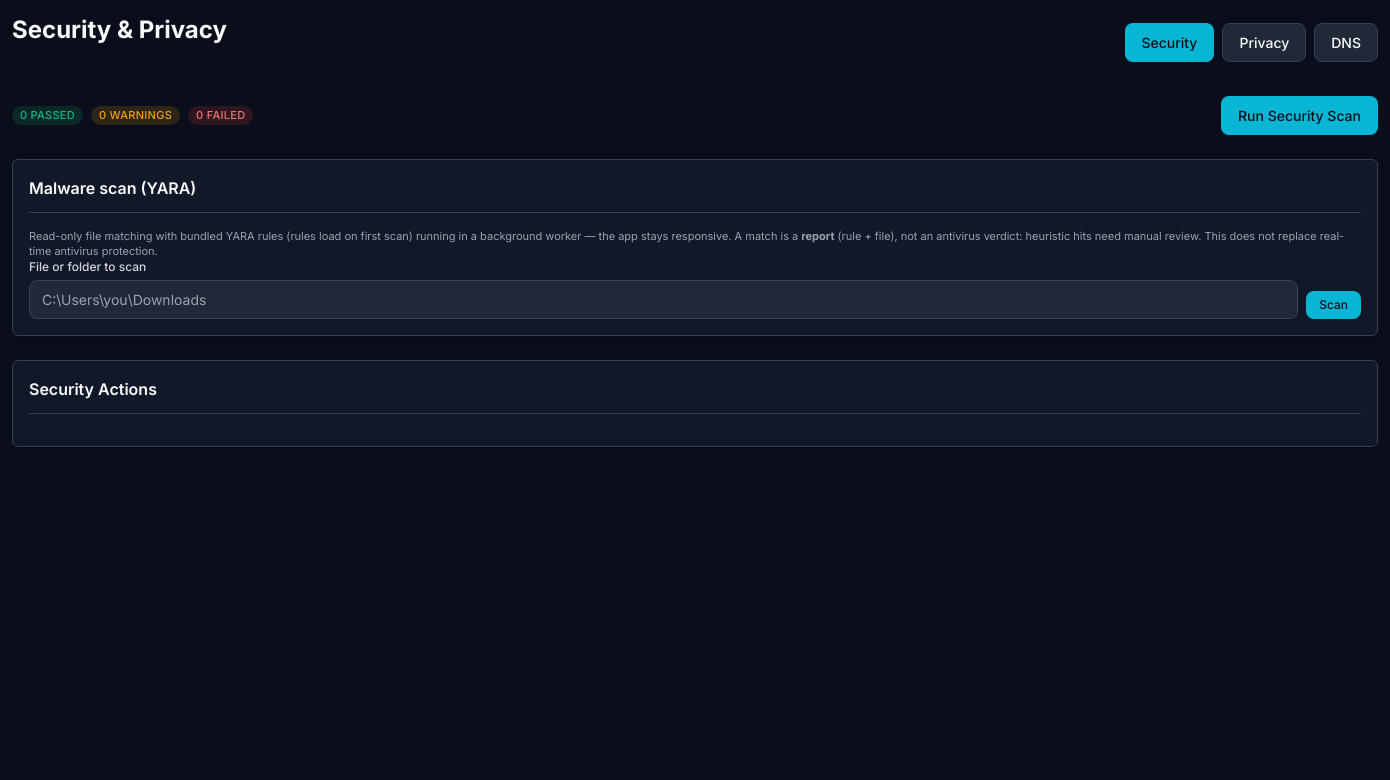
Test: Security UAC level fixes (A4) › renders one button per UAC level after a scan
Click the button with test id "security-scan-button" at (1300, 116), box [1221, 96, 1378, 135]
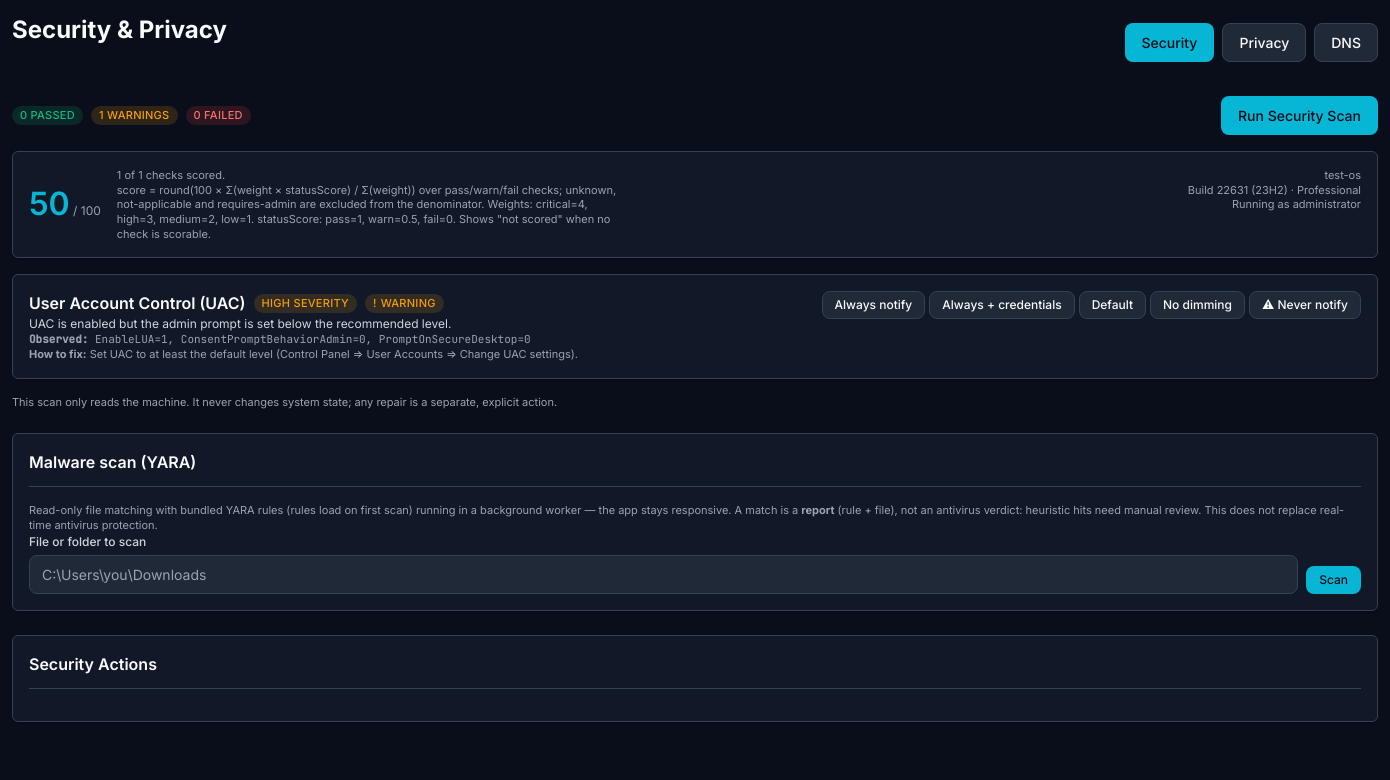
Expected: the element with test id "security-check-uac" is shown, [29, 291, 1361, 362]
Expected: the button with test id "security-uac-uac-default" is shown, [1079, 291, 1146, 319]
Expected: the button with test id "security-uac-uac-never" is shown, [1249, 291, 1361, 319]
